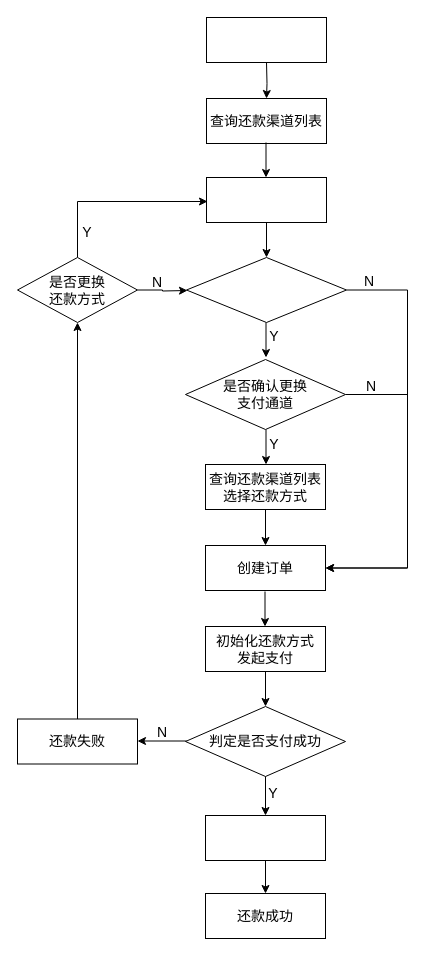
This 433x956 diagram has some shape labels left out. Each missing label, with the centre of its shape:
是否需要更换 支付通道: the point at 266,289
查询还款信息: the point at 266,39
校验还款信息: the point at 265,837
选择还款方式 发起还款: the point at 266,199
